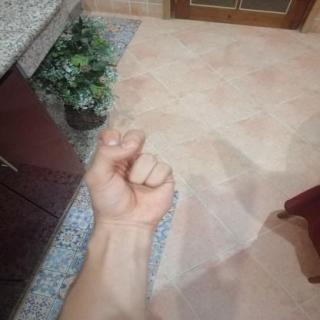QAAF: (73, 122, 186, 238)
